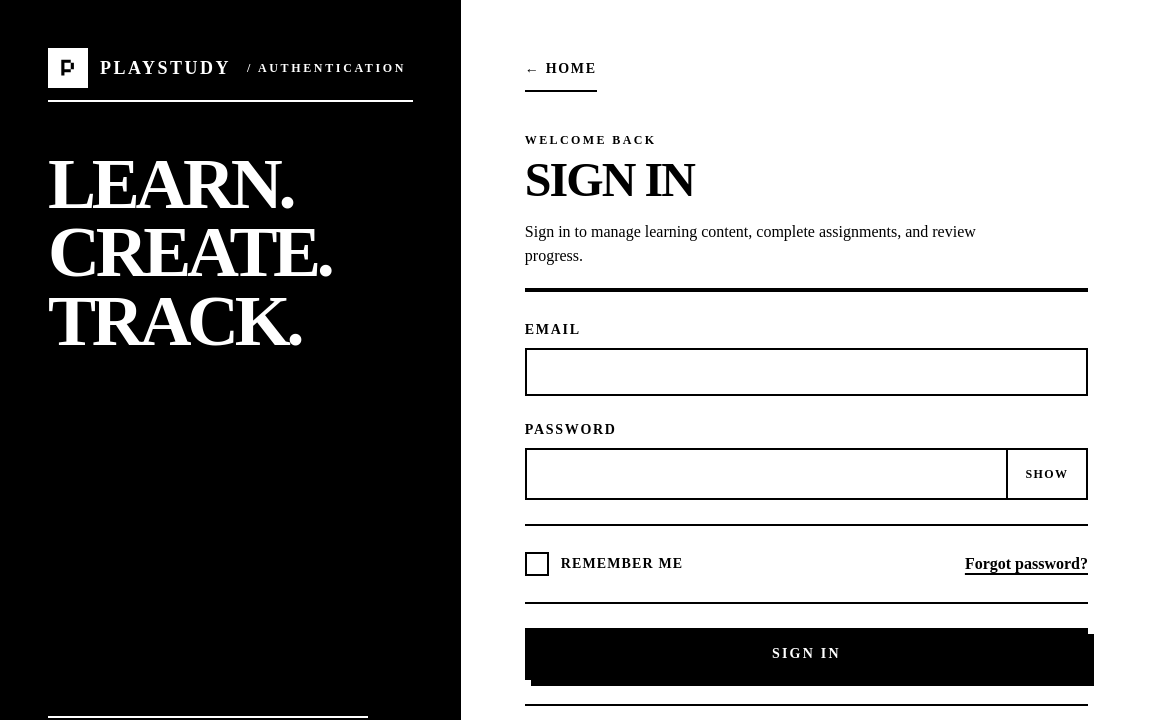
Test case: authentication error localization › login renders a safe inline error without the rejected credential payload
The width and height of the screenshot is (1152, 720).
In the field with test id "login-email-input": (806, 372) [525,348,1088,396], type "teacher@example.test"
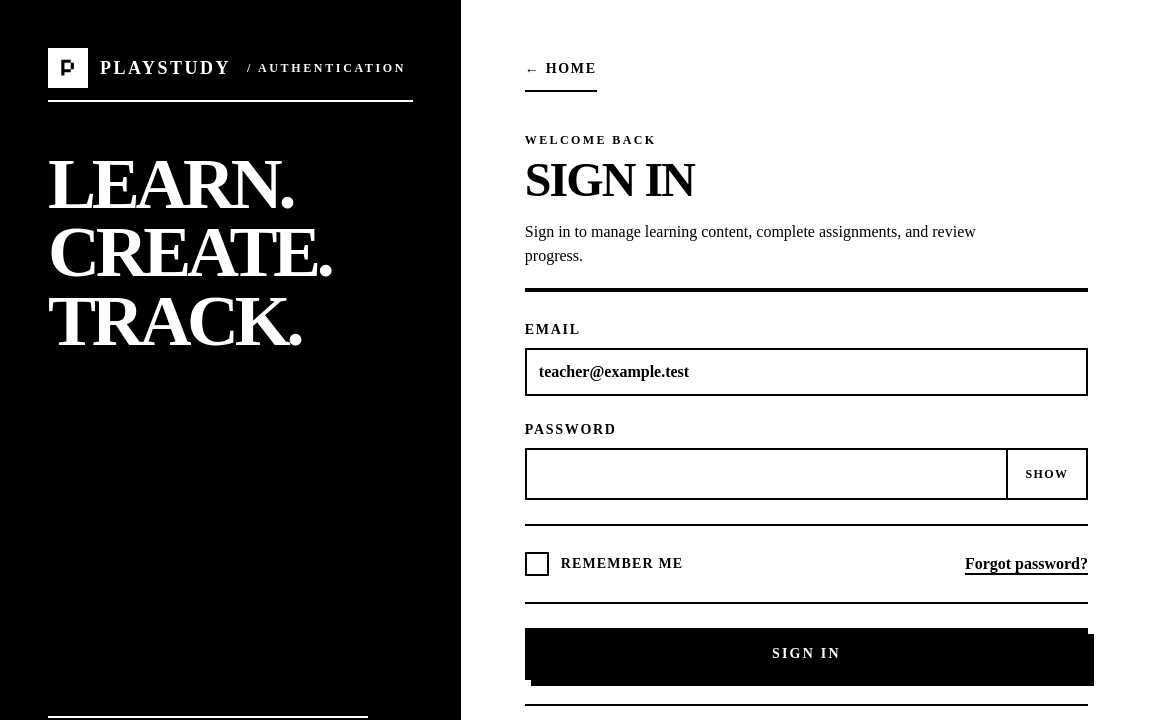
In the password field with test id "login-password-input": (766, 474) [527,450,1006,498], type "canary-password"
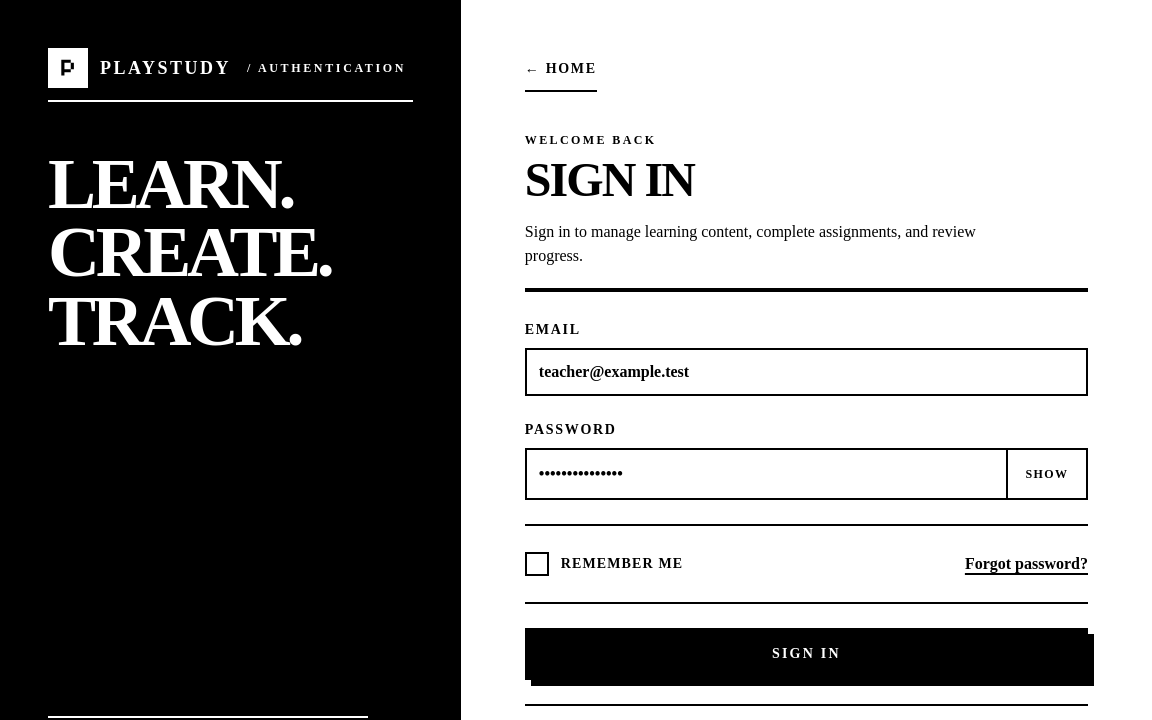
Click the button with test id "login-submit-button": (806, 654) [525,628,1088,680]
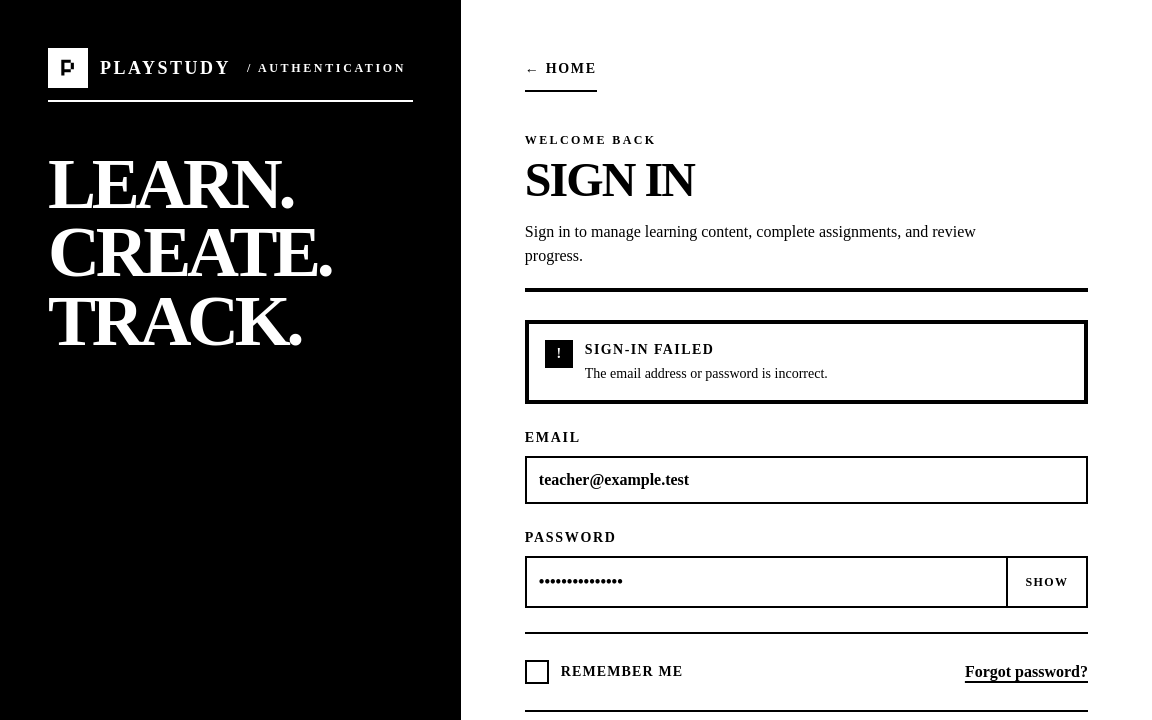
Check: the message does not show "canary", box [525,320,1088,404]
Check: the message shows "The email address or password is incorrect.", box [585,366,828,381]
